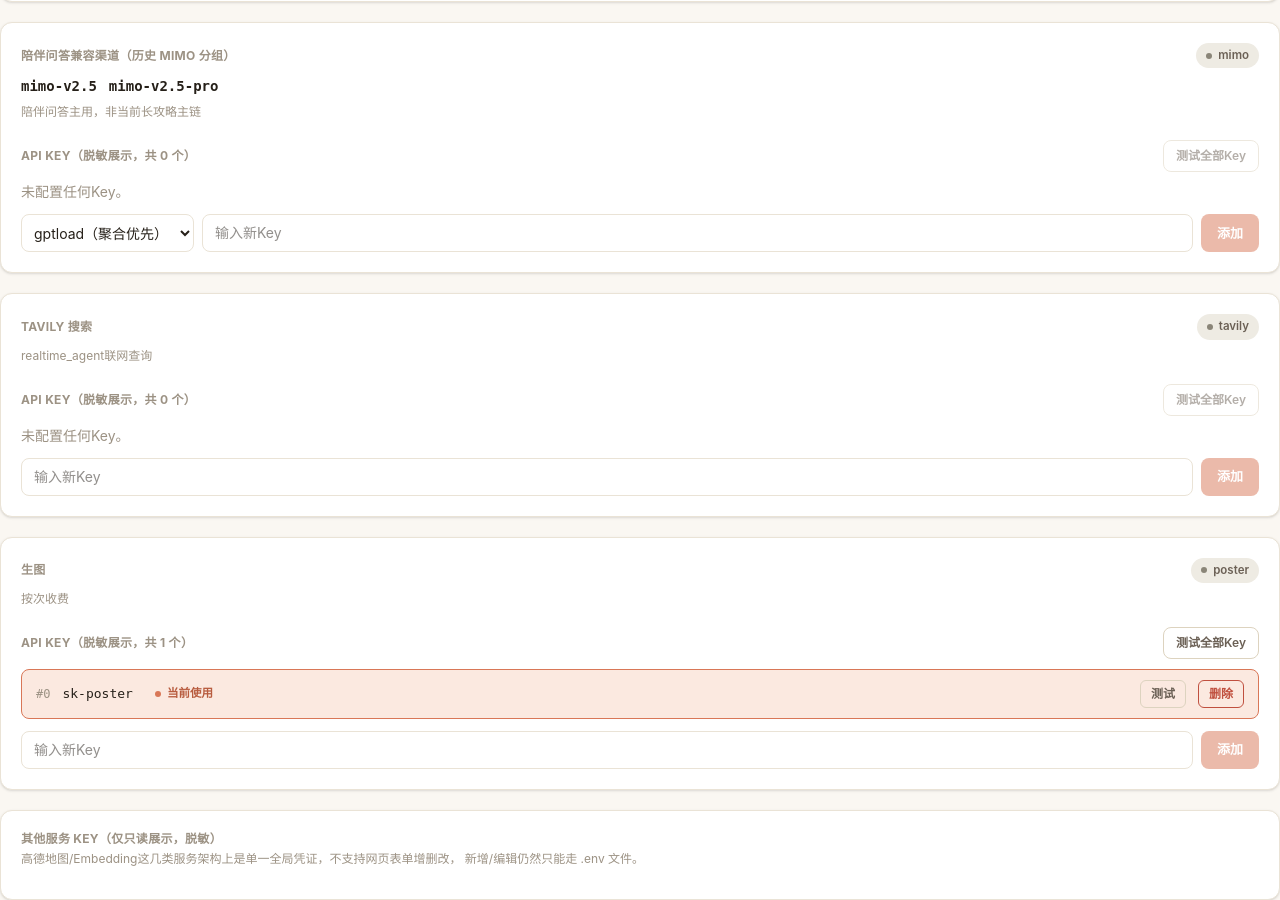
Test: ModelConfigPage › poster test result shows the untested-due-to-cost message instead of ok/fail
(page scrolled)
Note: full/light都是0 key，唯一有key的行是poster的这一个，其"测试"按钮就是页面上第一个
Click the button "测试".
click(1163, 694)  # box x1=1140 y1=680 x2=1186 y2=708
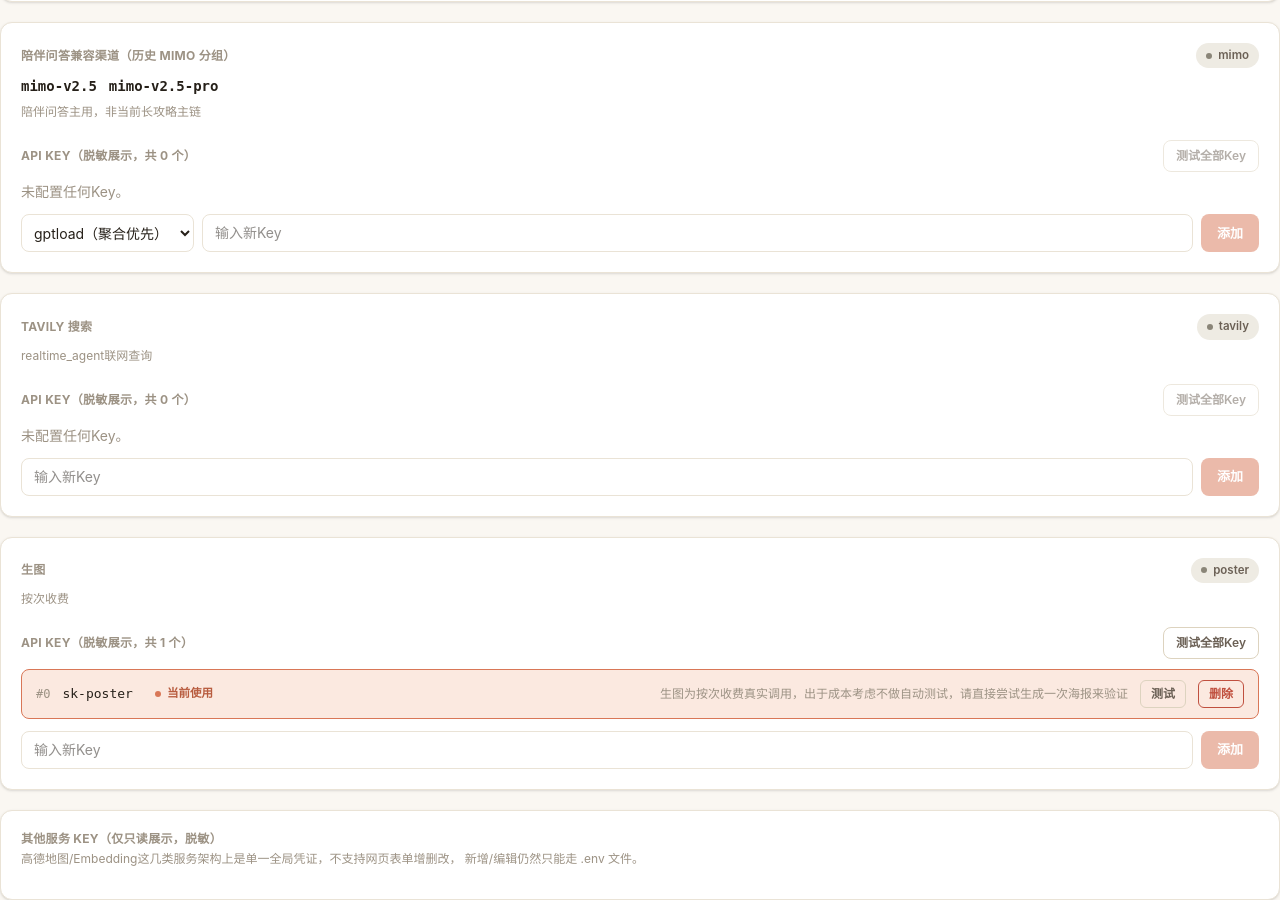
expect the text "生图为按次收费真实调用，出于成本考虑不做自动测试，请直接尝试生成一次海报来验证" is shown: met, box x1=660 y1=686 x2=1128 y2=702
